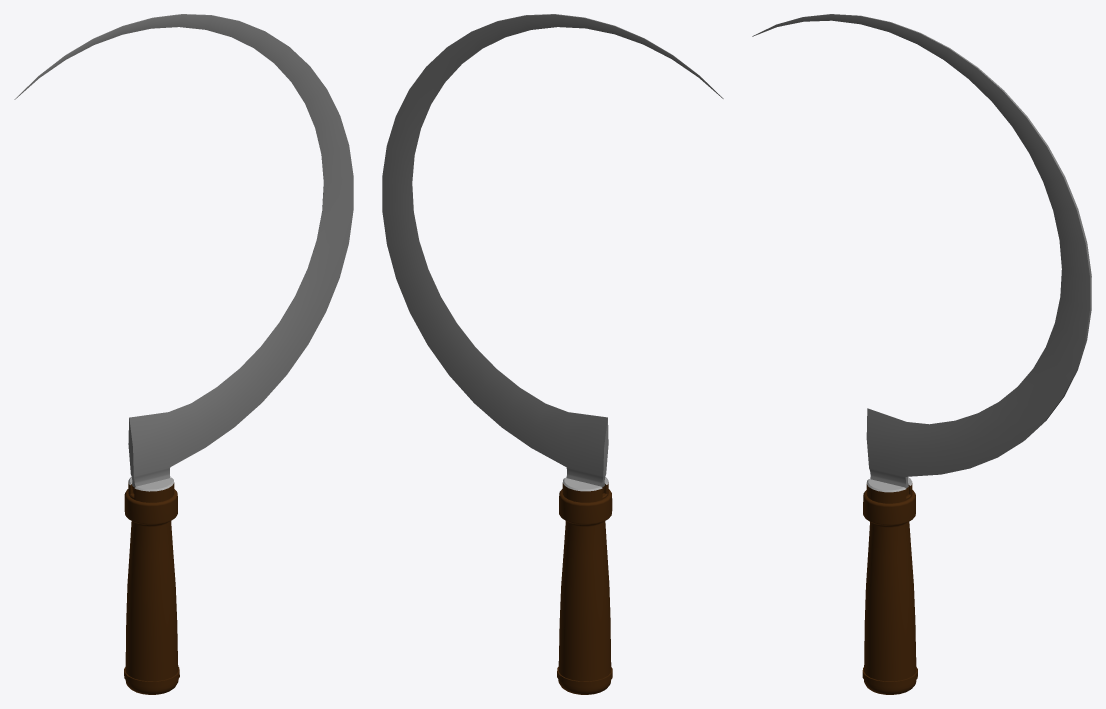
The model's file is Sickle.fbx.
3 views of the same model, side by side, from view 1: azimuth 30°, elevation 25°; view 2: azimuth 150°, elevation 25°; view 3: azimuth 330°, elevation 25° (orthographic).
Visible parts, largest first — view 1: polySurface16; view 2: polySurface16; view 3: polySurface16.
Part boxes in pixels (box(x1,y1,x2,y2)): polySurface16: box(14, 14, 353, 694); polySurface16: box(382, 14, 723, 694); polySurface16: box(752, 14, 1091, 694).
Size of the model in its own units: 14.44 by 27.17 by 2.07.
